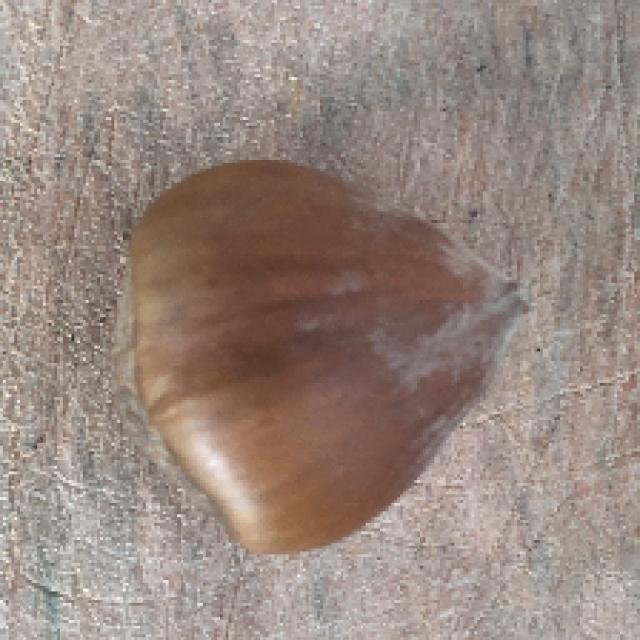qualityHazelnut: (119, 141, 532, 563)
